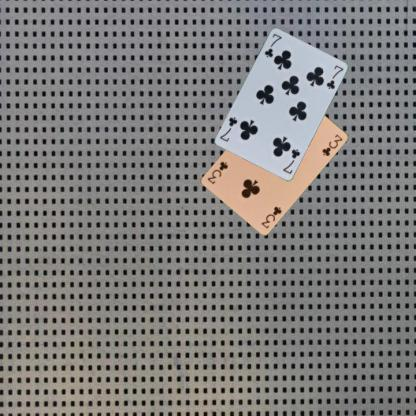3c: (258, 204, 283, 230)
7c: (280, 146, 301, 175), (262, 31, 283, 58)
